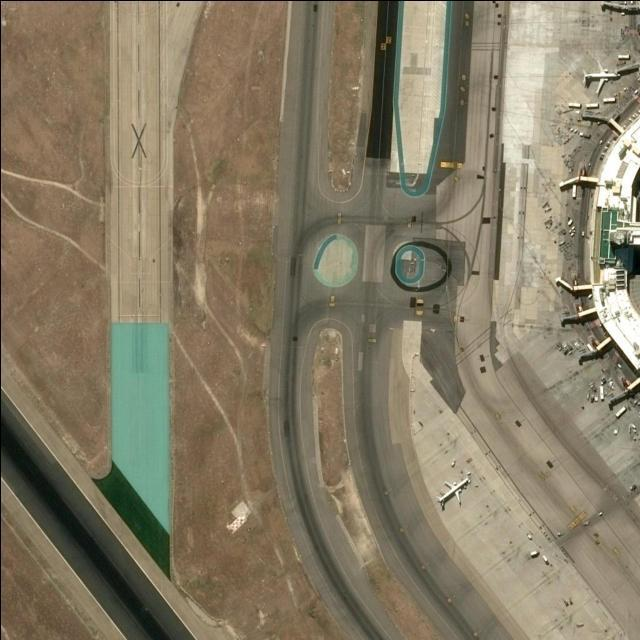Aircraft: (436, 475, 470, 507)
